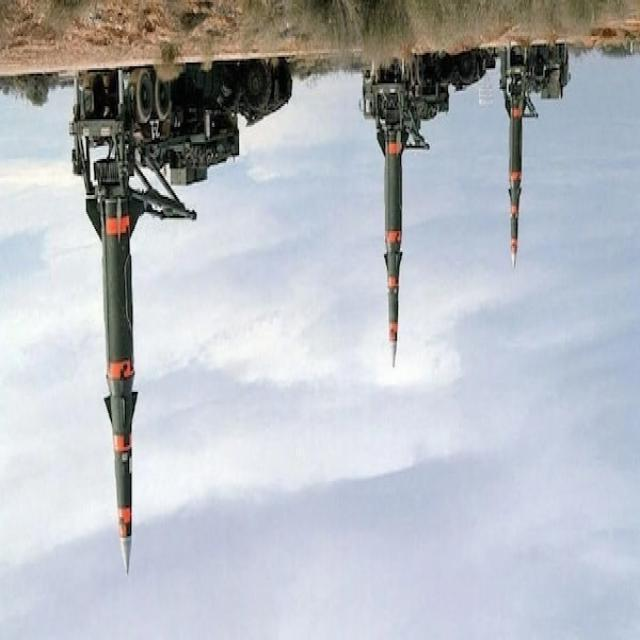missile: (93, 188, 144, 583), (370, 103, 411, 377), (494, 86, 534, 271)
